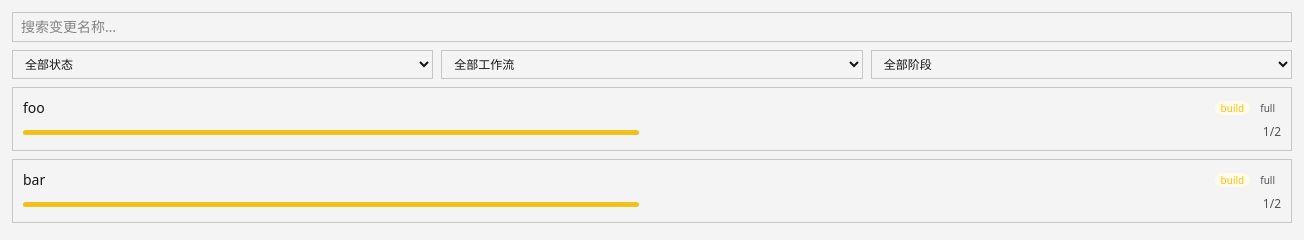
it: ChangeExplorer › clearing the search input restores the full list
Step 1. Type "foo" into the field with placeholder "搜索变更名称…" → (652, 27), box [12, 12, 1292, 42]
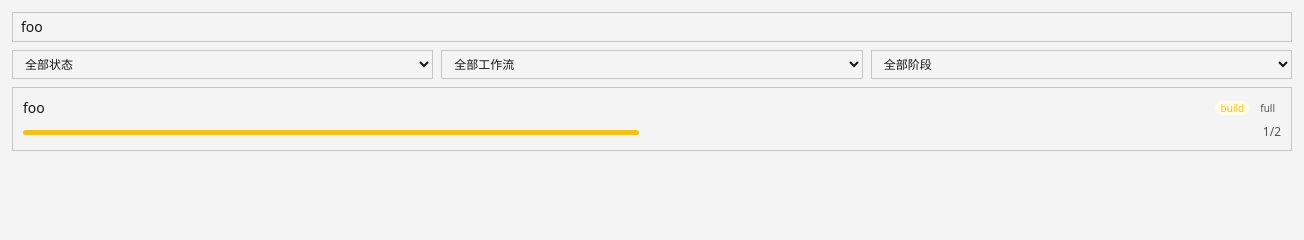
Now the text "bar" is gone
Step 2. Clear the field with placeholder "搜索变更名称…" → (652, 27), box [12, 12, 1292, 42]
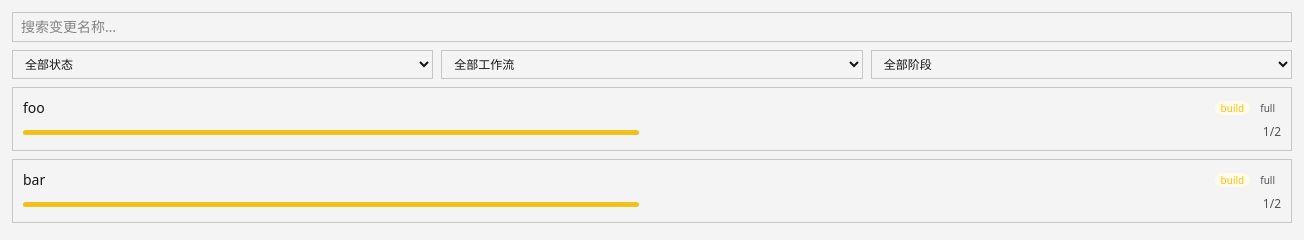
Expected: the text "foo" is shown, [23, 98, 45, 118]
Now the text "bar" is shown, box [23, 170, 45, 190]
